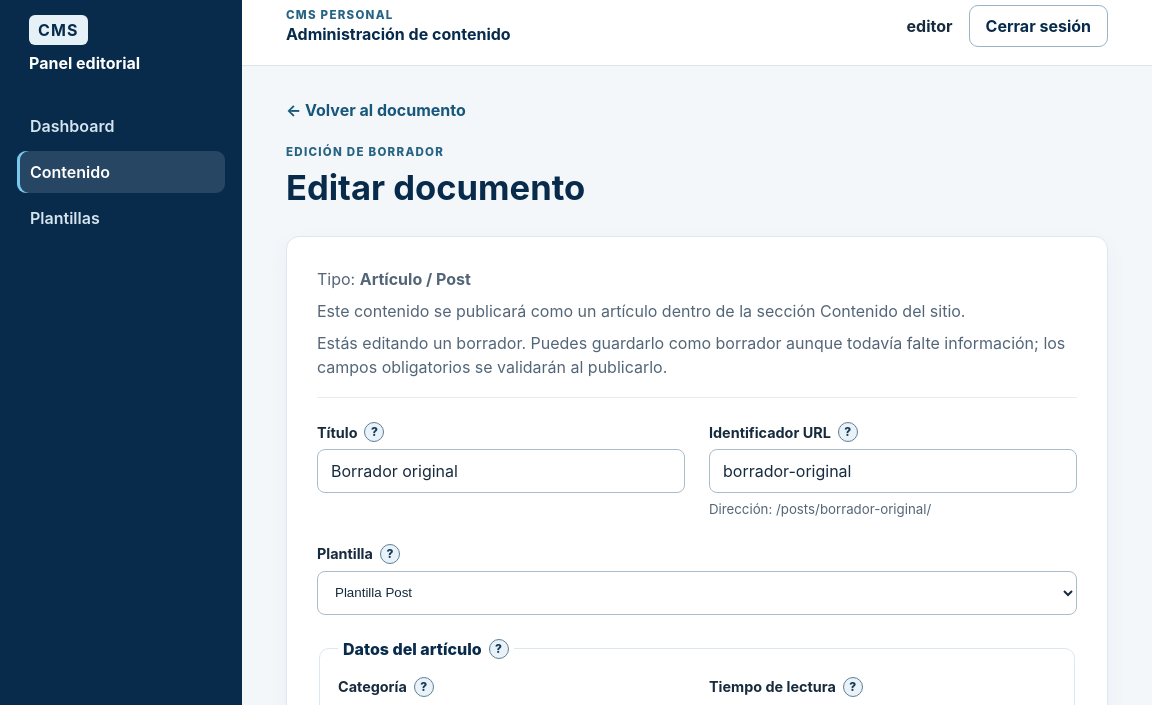
Test: Creación y edición › carga BORRADOR y PUT solo envía campos editables
Expected: the field labelled "Identificador URL" holds "borrador-original", [709,449,1077,493]
Expected: the text "Artículo / Post" is shown, [360,269,471,289]
Replace the text in the field labelled "Título" with "Título editado" at (501, 471), box [317,449,685,493]
(page scrolled)
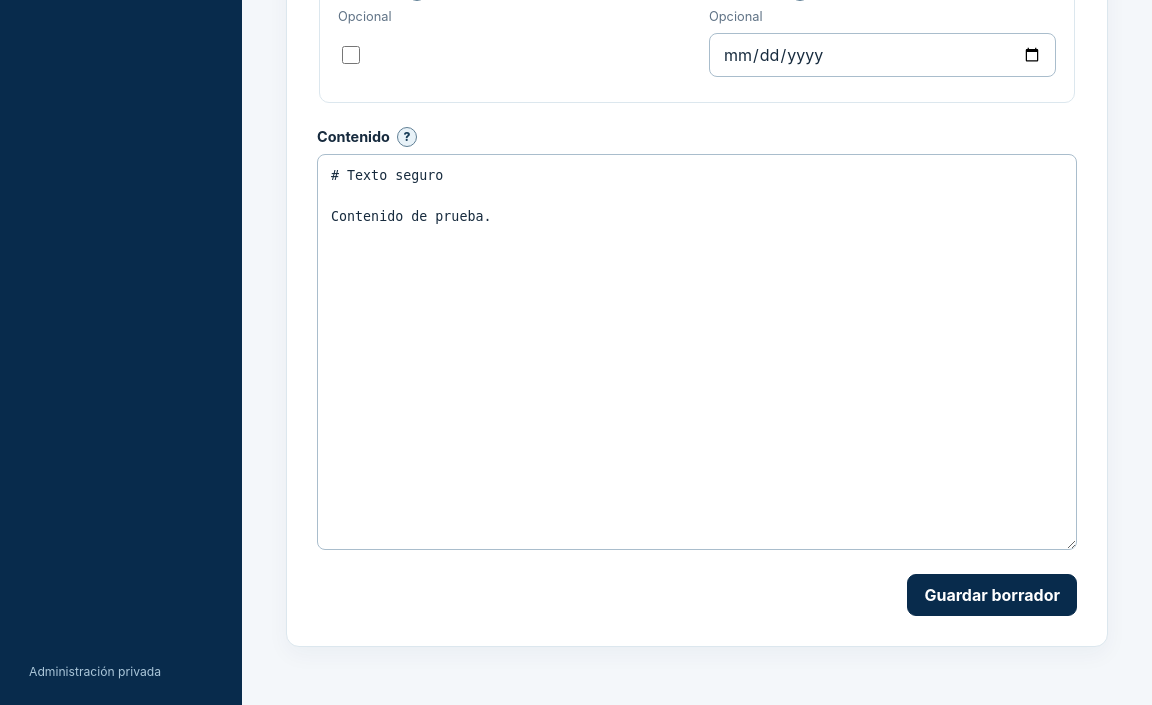
Click the button "Guardar borrador" at (992, 595), box [907,574,1077,616]
(page scrolled)
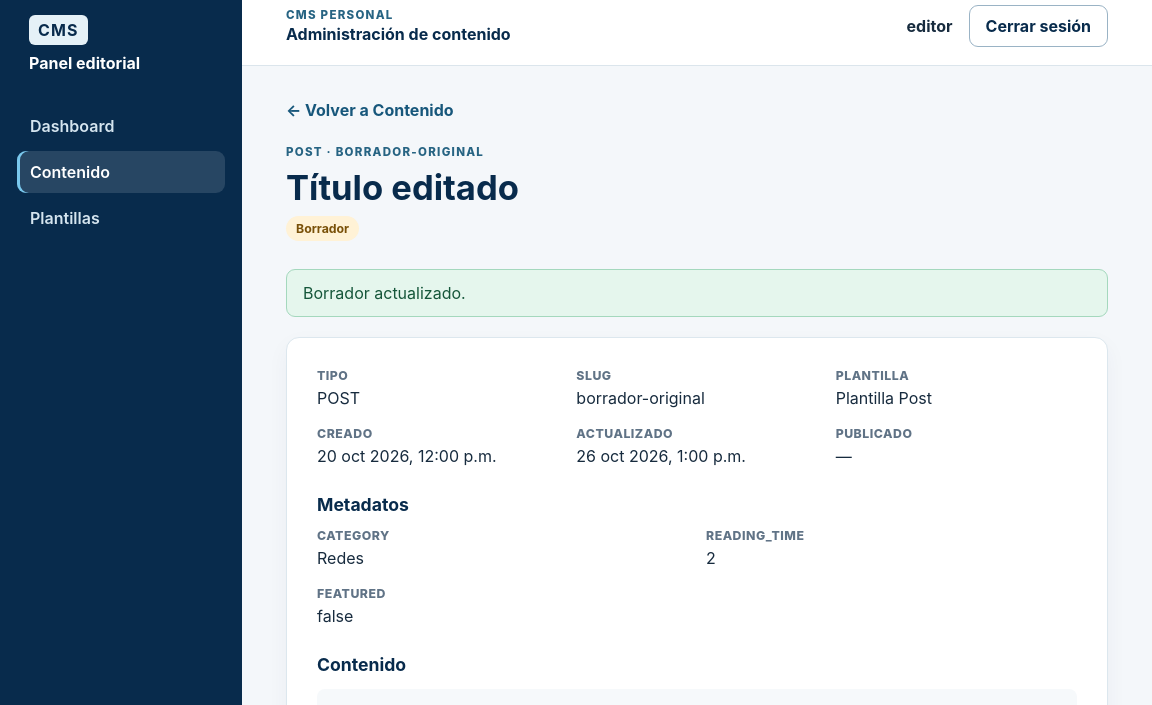
Expected: the text "Borrador actualizado." is shown, [286,269,1108,317]
Expected: the heading "Título editado" is shown, [286,167,519,208]
